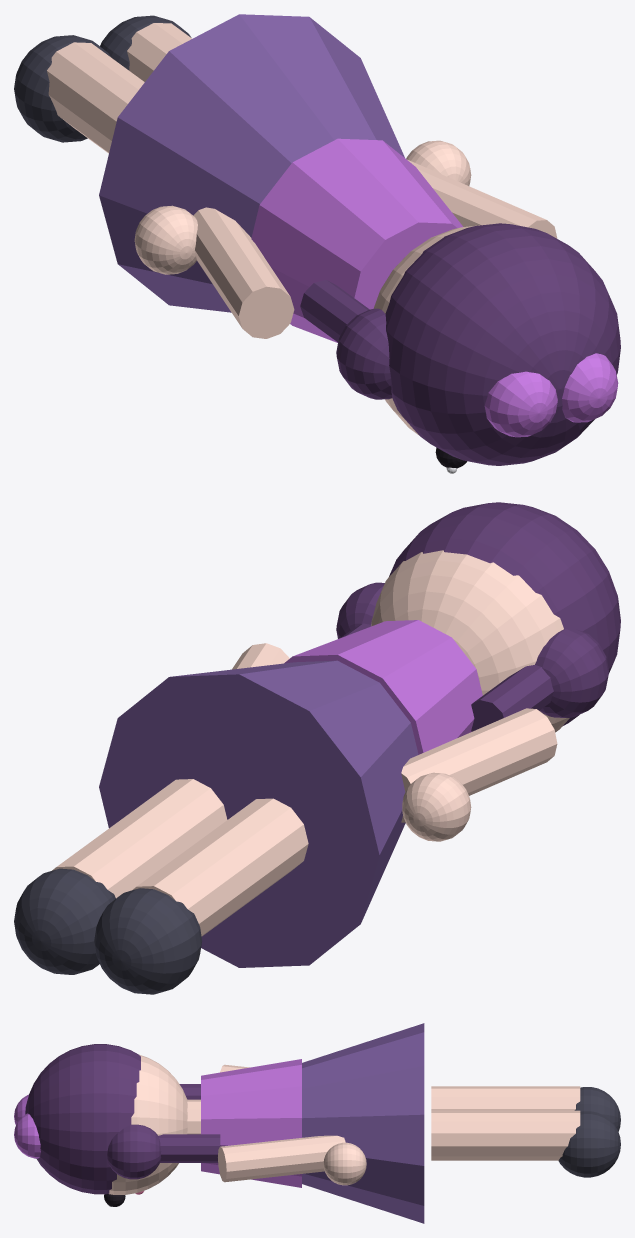
File: jasmin_avatar.glb
3 views of the same model, one above another, from view 1: azimuth 30°, elevation 25°; view 2: azimuth 150°, elevation 25°; view 3: azimuth 270°, elevation 25° (orthographic). The views are drawn at different scales.
Parts seen in each view (by area): view 1: world; view 2: world; view 3: world.
Boxes of the visible parts, x1,y1,x2,y2 form: world: [14, 14, 620, 473]; world: [14, 502, 620, 994]; world: [14, 1023, 620, 1223].
Size of the model in its own units: 0.979 by 0.84 by 2.53.
